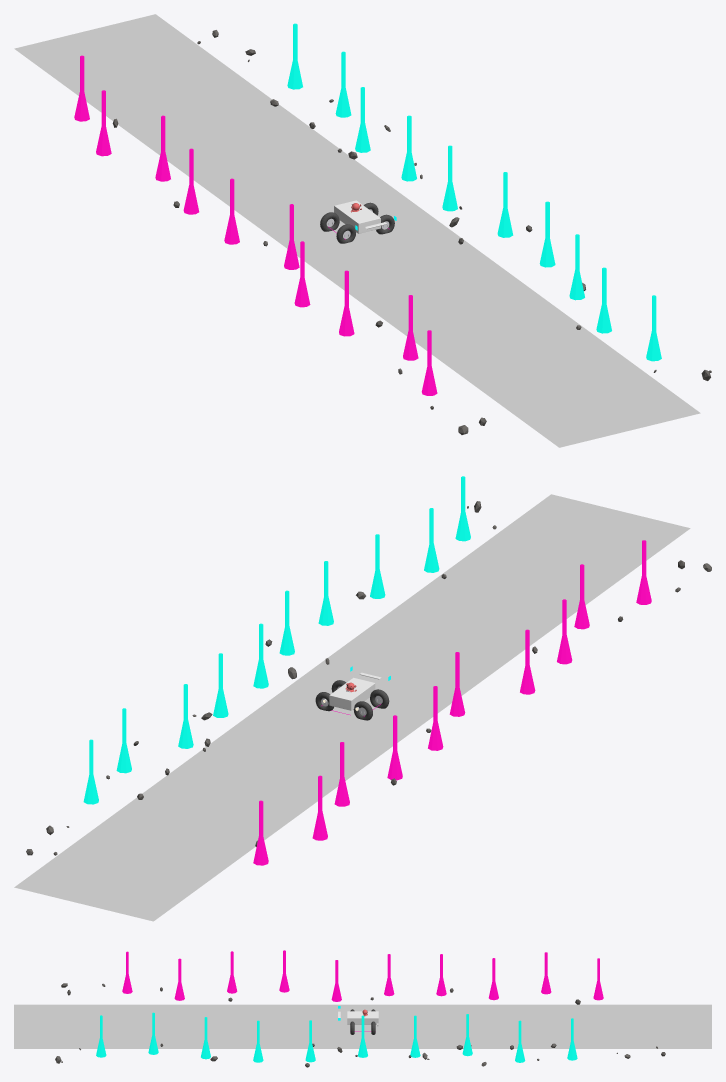
File: mad-scene-complete.glb
The picture shows the model from 3 angles, top to bottom: view 1: azimuth 30°, elevation 25°; view 2: azimuth 150°, elevation 25°; view 3: azimuth 270°, elevation 25°; orthographic projection. The views are drawn at different scales.
Visible parts, largest first — view 1: TrackSurface, CarBody_v6; view 2: TrackSurface, CarBody_v6; view 3: TrackSurface, CarBody_v6.
Boxes of the visible parts, bbox=[...] form: TrackSurface: bbox=[14, 14, 700, 447]; CarBody_v6: bbox=[334, 200, 380, 233]; TrackSurface: bbox=[14, 494, 690, 921]; CarBody_v6: bbox=[329, 677, 375, 710]; TrackSurface: bbox=[14, 1004, 711, 1048]; CarBody_v6: bbox=[347, 1011, 378, 1024].
Size of the model in its own units: 11.14 by 2.62 by 40.
